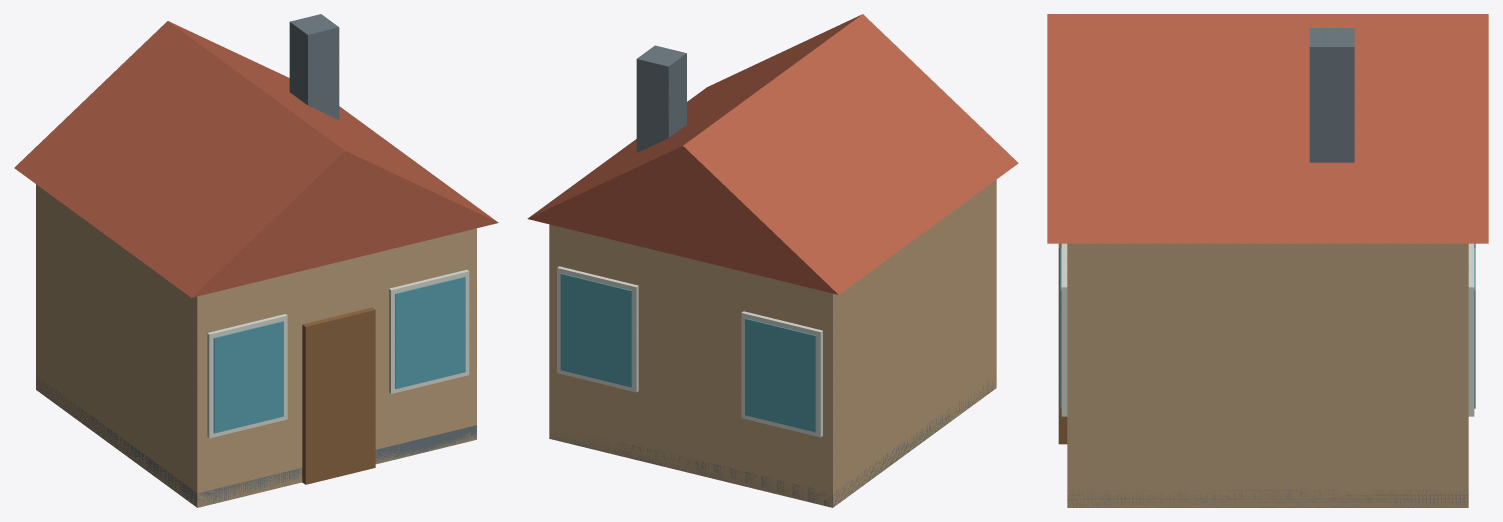
File: rumah-3d.glb
3 renders of one model, left to right at view 1: azimuth 30°, elevation 25°; view 2: azimuth 150°, elevation 25°; view 3: azimuth 270°, elevation 25°, orthographic. The views are drawn at different scales.
Parts seen in each view (by area): view 1: Pitched roof 012, Building wall volume 001, Entry door 011, Window blue glazing 008, Window blue glazing 004, Plinth 002, Chimney 013, Window trim 007, Window trim 003; view 2: Building wall volume 001, Pitched roof 012, Window blue glazing 010, Window blue glazing 006, Chimney 013, Plinth 002, Window trim 005, Window trim 009; view 3: Building wall volume 001, Pitched roof 012, Chimney 013, Plinth 002, Window trim 007, Window trim 009, Entry door 011.
Part boxes in pixels (box(x1,y1,x2,y2)): Pitched roof 012: box(14, 21, 498, 297); Building wall volume 001: box(36, 184, 476, 507); Entry door 011: box(302, 307, 375, 484); Window blue glazing 008: box(395, 276, 465, 388); Window blue glazing 004: box(213, 321, 283, 433); Plinth 002: box(36, 375, 476, 507); Chimney 013: box(289, 14, 339, 119); Window trim 007: box(389, 269, 469, 393); Window trim 003: box(207, 314, 287, 438); Building wall volume 001: box(549, 180, 996, 507); Pitched roof 012: box(527, 14, 1018, 294); Window blue glazing 010: box(560, 273, 632, 387); Window blue glazing 006: box(745, 318, 816, 432); Chimney 013: box(636, 45, 686, 152); Plinth 002: box(550, 380, 995, 507); Window trim 005: box(741, 311, 822, 437); Window trim 009: box(557, 266, 638, 392); Building wall volume 001: box(1067, 243, 1468, 507); Pitched roof 012: box(1047, 14, 1488, 243); Chimney 013: box(1309, 28, 1354, 162); Plinth 002: box(1067, 489, 1468, 507); Window trim 007: box(1061, 243, 1067, 416); Window trim 009: box(1468, 243, 1474, 416); Entry door 011: box(1058, 243, 1067, 444).
Bounding box in the file's own units: 4.4 × 4.8 × 4.4.
Materials: 6 (6 with a texture image).
